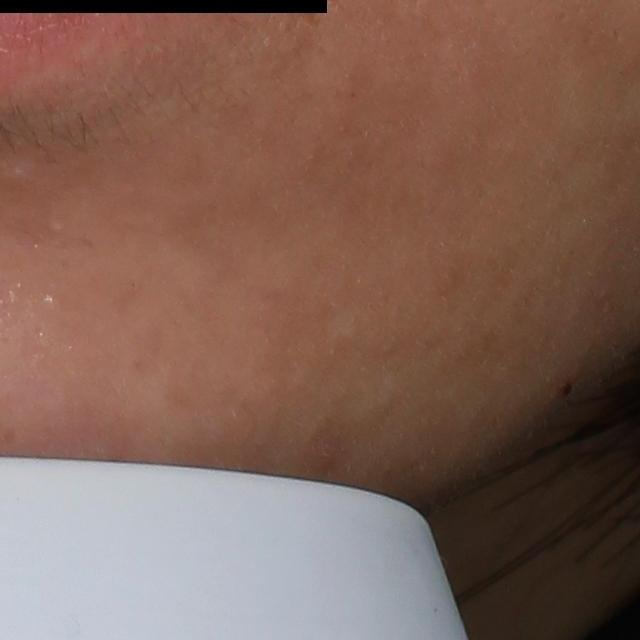hypertrophic_scar: (0, 156, 34, 181)
